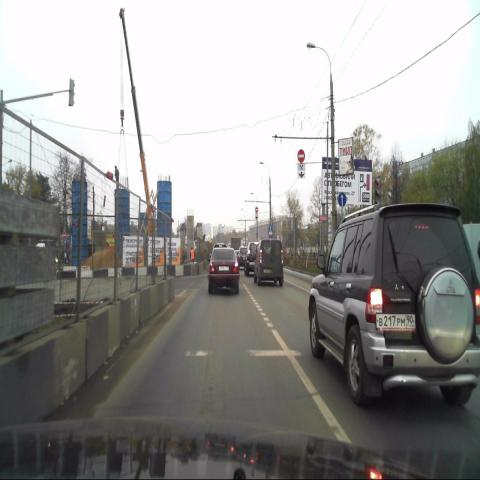3_1: (297, 149, 305, 163)
4_1_1: (338, 192, 346, 206)
